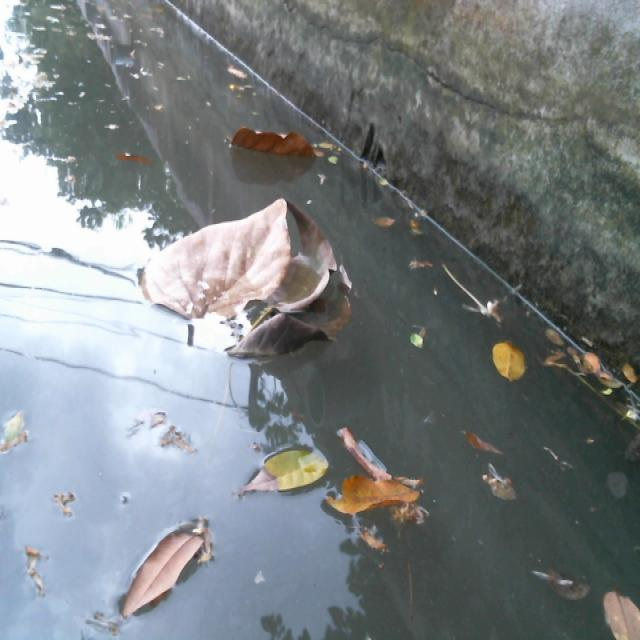Big-leaf: (122, 210, 367, 374), (329, 440, 432, 552), (222, 125, 322, 171)
Small-leaf: (112, 518, 218, 619), (226, 450, 328, 495), (471, 431, 528, 508), (102, 135, 169, 178), (482, 338, 535, 388), (602, 586, 640, 640), (218, 54, 259, 97), (546, 566, 588, 605), (408, 322, 436, 362), (576, 346, 604, 377), (366, 169, 393, 197), (621, 360, 640, 397), (378, 216, 402, 236), (325, 153, 341, 166)
